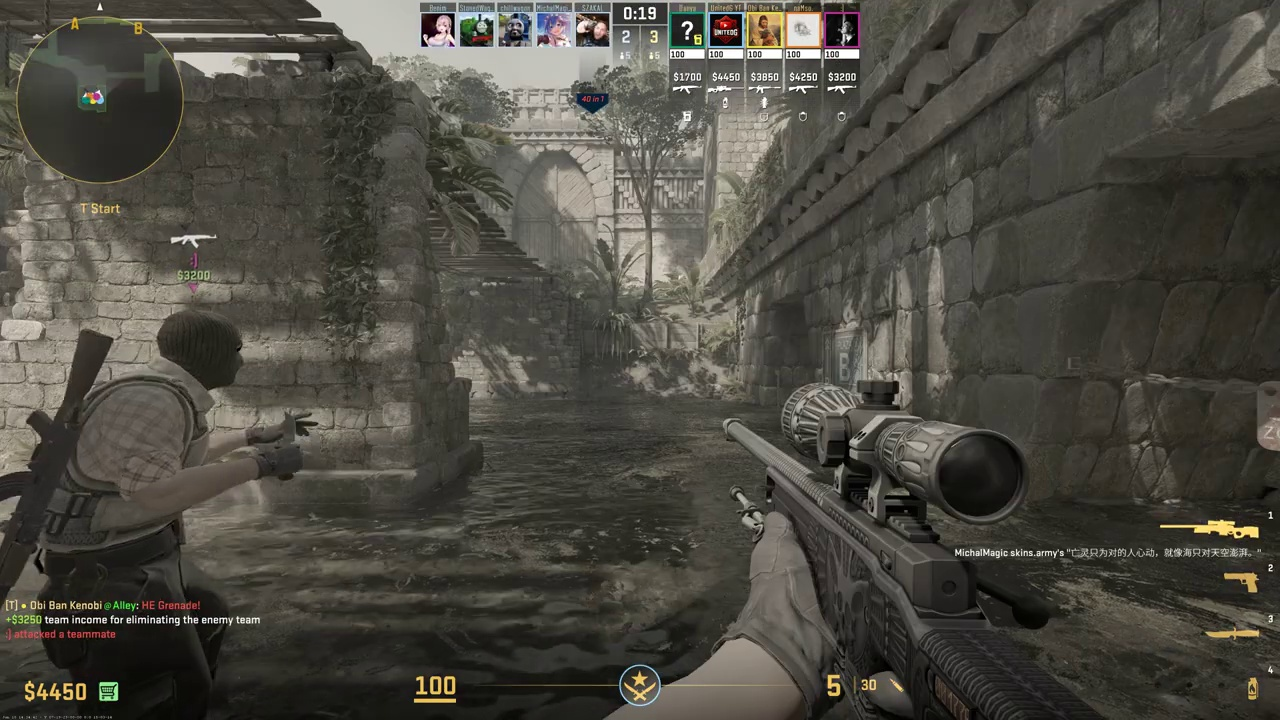Terrorist: (44, 313, 244, 714)
